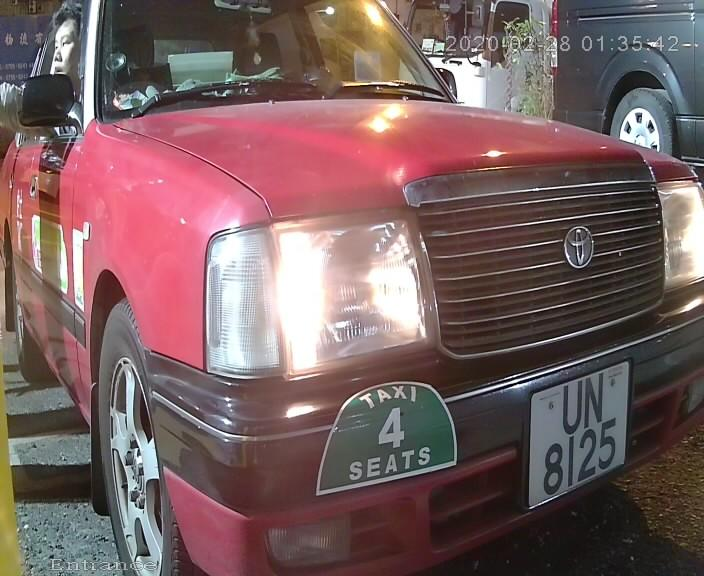Car: (1, 1, 704, 576)
License Plate: (513, 358, 629, 517)
